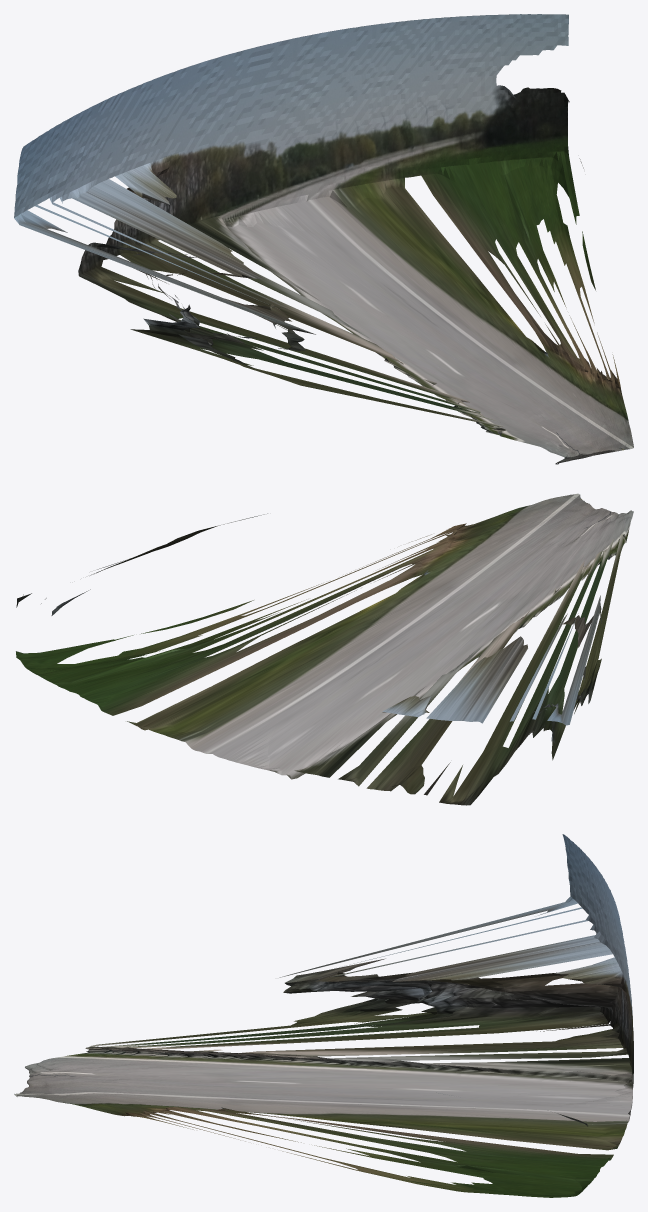
3 views of the same model, one above another, from view 1: azimuth 30°, elevation 25°; view 2: azimuth 150°, elevation 25°; view 3: azimuth 270°, elevation 25° (orthographic). The views are drawn at different scales.
Visible parts, largest first — view 1: defaultobject; view 2: defaultobject; view 3: defaultobject.
Boxes of the visible parts, bbox=[...] form: defaultobject: bbox=[14, 14, 633, 464]; defaultobject: bbox=[16, 493, 633, 805]; defaultobject: bbox=[14, 834, 633, 1197].
Bounding box in the file's own units: 41.11 × 12.65 × 44.89.
1 material, 1 textured.
